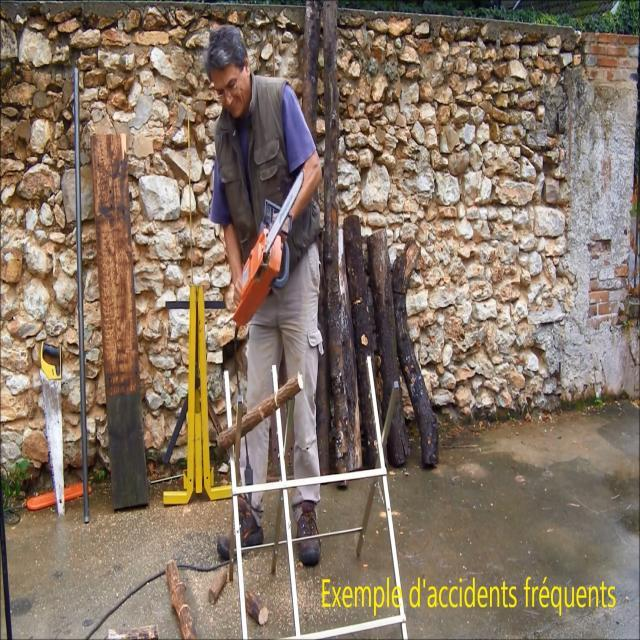Chainsaw: (222, 133, 328, 344)
